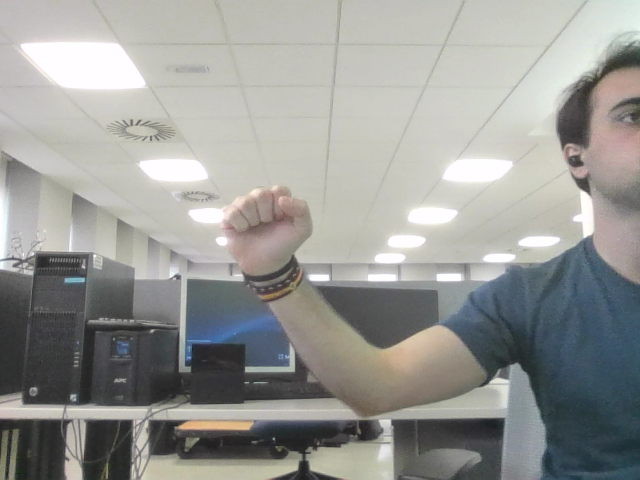Puño: (232, 190, 299, 249)
